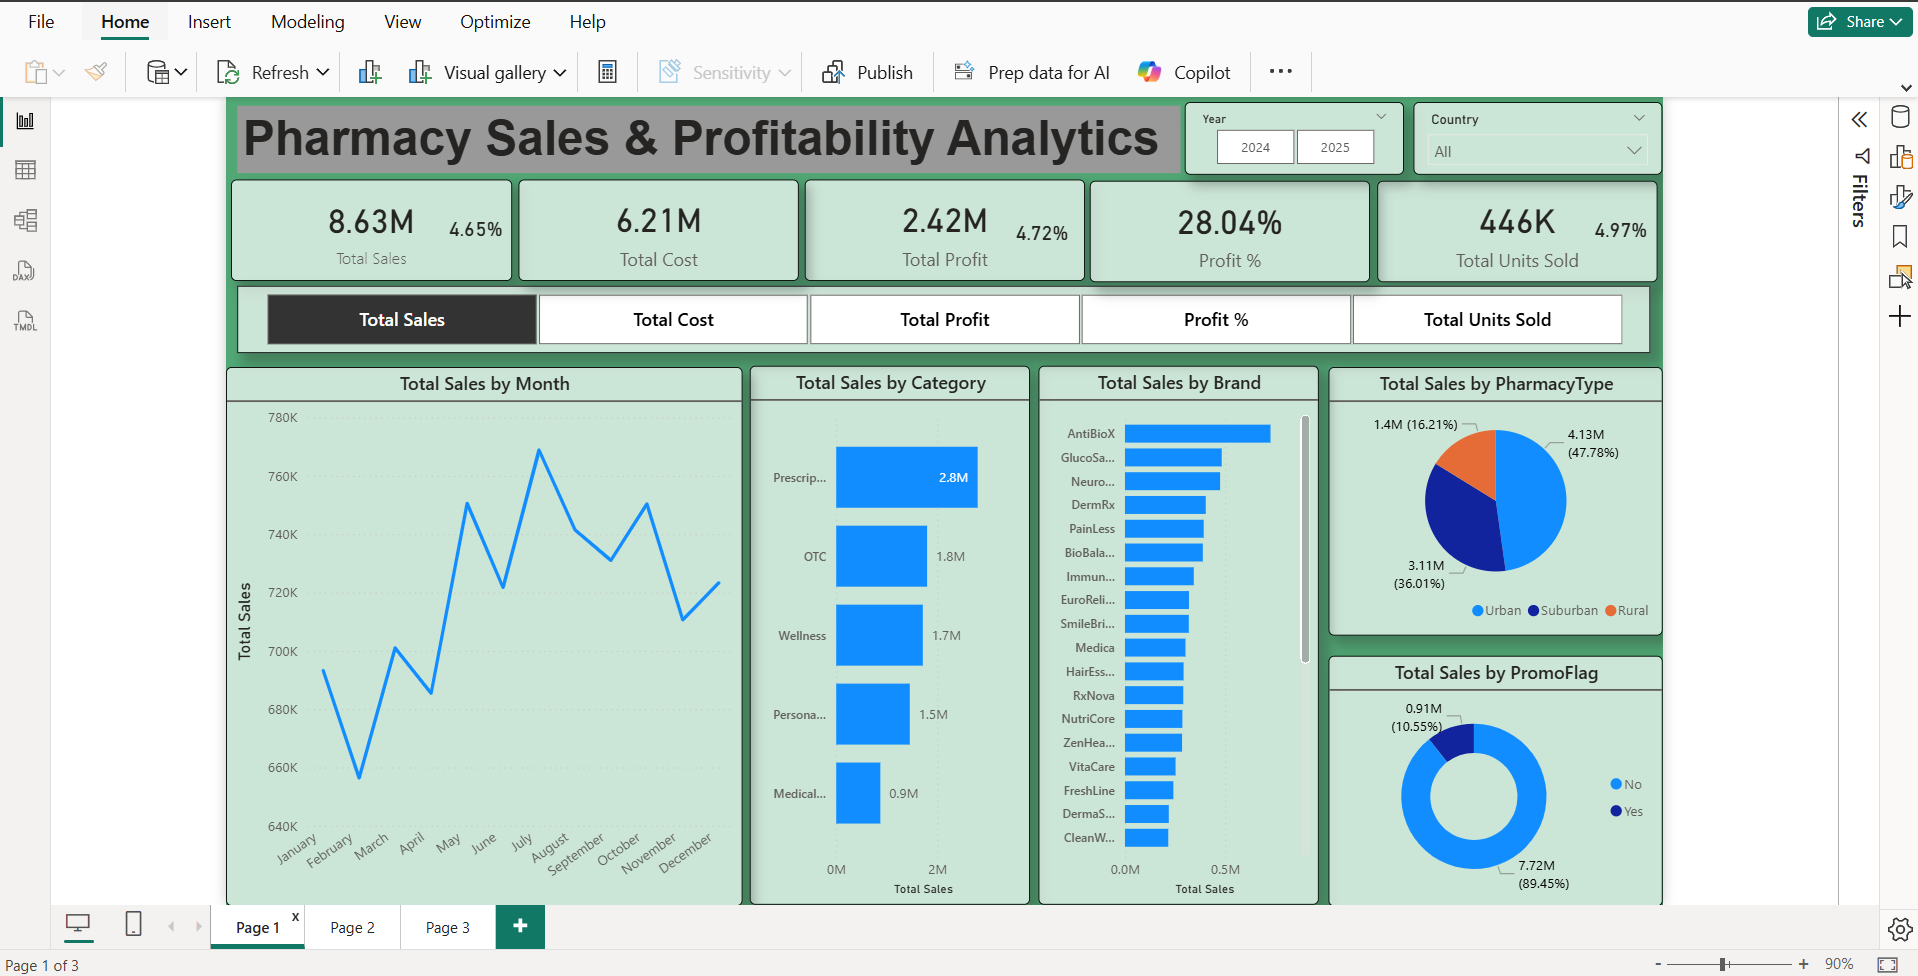

Layout of this report page (visuals, bound fields, positions):
{"tool":"powerbi","page":{"name":"Page 1","canvas":[1280,720],"ordinal":0},"visuals":[{"type":"card","fields":{"Values":["Base Measures.total revenue"]},"box":[4.8,73.6,250,90],"z":0},{"type":"card","fields":{"Values":["Base Measures.total margin"]},"box":[515.2,73.6,249.7,90.5],"z":1000},{"type":"card","fields":{"Values":["Base Measures.total units sold"]},"box":[1025.5,74.8,249.7,90],"z":2000},{"type":"card","fields":{"Values":["Base Measures.MOM sales change"]},"box":[184.6,94.1,76,47.1],"z":3000},{"type":"pieChart","fields":{"Y":["Base Measures.Total Sales"],"Category":["DimPharmacy.PharmacyType"]},"box":[982,240.1,298,238.9],"z":4000},{"type":"clusteredBarChart","fields":{"Y":["Base Measures.Total Sales"],"Category":["DimProduct.Category"]},"box":[466.9,239.8,249.7,480.2],"z":5000},{"type":"clusteredBarChart","fields":{"Y":["Base Measures.Total Sales"],"Category":["DimProduct.Brand"]},"box":[723.9,239.8,249.7,480.2],"z":6000},{"type":"donutChart","fields":{"Y":["Base Measures.Total Sales"],"Category":["FactSales.PromoFlag"]},"box":[982,497.1,298,223.2],"z":7000},{"type":"card","fields":{"Values":["Base Measures.MOM unitsold change"]},"box":[1204,95.3,76,47.1],"z":8000},{"type":"slicer","fields":{"Values":["Parameter 2.Parameter"]},"box":[9.7,167.7,1258.3,60.3],"z":9000},{"type":"lineChart","title":"Total Sales by Month","fields":{"Y":["Base Measures.Total Sales"],"Category":["DimDate.MonthName"]},"box":[0,240.1,459.7,480.2],"z":10000},{"type":"card","fields":{"Values":["Base Measures.Total Cost"]},"box":[260.6,73.6,249.7,90.5],"z":11000},{"type":"card","fields":{"Values":["Base Measures.Profit %"]},"box":[769.7,74.8,249.7,90.5],"z":12000},{"type":"textbox","box":[9.7,7.2,839.7,60.3],"z":13000},{"type":"card","fields":{"Values":["Base Measures.MOM profit change"]},"box":[688.9,97.7,76,47.1],"z":14000},{"type":"slicer","fields":{"Values":["DimDate.Year"]},"box":[854.2,4.8,195.4,65.1],"z":15000},{"type":"slicer","fields":{"Values":["DimPharmacy.Country"]},"box":[1058,4.8,222,65.1],"z":16000}]}

Visuals, with their boxes on the page's 1280x720 design canvas (x1, y1, x2, y2). These are canvas units, not pixel positions in the 1918x976 screenshot, which may show the page scaled, cropped or inside an application window:
card - Base Measures.total revenue: locate(5, 74, 255, 164)
card - Base Measures.total margin: locate(515, 74, 765, 164)
card - Base Measures.total units sold: locate(1026, 75, 1275, 165)
card - Base Measures.MOM sales change: locate(185, 94, 261, 141)
pieChart - Base Measures.Total Sales x DimPharmacy.PharmacyType: locate(982, 240, 1280, 479)
clusteredBarChart - Base Measures.Total Sales x DimProduct.Category: locate(467, 240, 717, 720)
clusteredBarChart - Base Measures.Total Sales x DimProduct.Brand: locate(724, 240, 974, 720)
donutChart - Base Measures.Total Sales x FactSales.PromoFlag: locate(982, 497, 1280, 720)
card - Base Measures.MOM unitsold change: locate(1204, 95, 1280, 142)
slicer - Parameter 2.Parameter: locate(10, 168, 1268, 228)
"Total Sales by Month" lineChart: locate(0, 240, 460, 720)
card - Base Measures.Total Cost: locate(261, 74, 510, 164)
card - Base Measures.Profit %: locate(770, 75, 1019, 165)
textbox: locate(10, 7, 849, 68)
card - Base Measures.MOM profit change: locate(689, 98, 765, 145)
slicer - DimDate.Year: locate(854, 5, 1050, 70)
slicer - DimPharmacy.Country: locate(1058, 5, 1280, 70)
